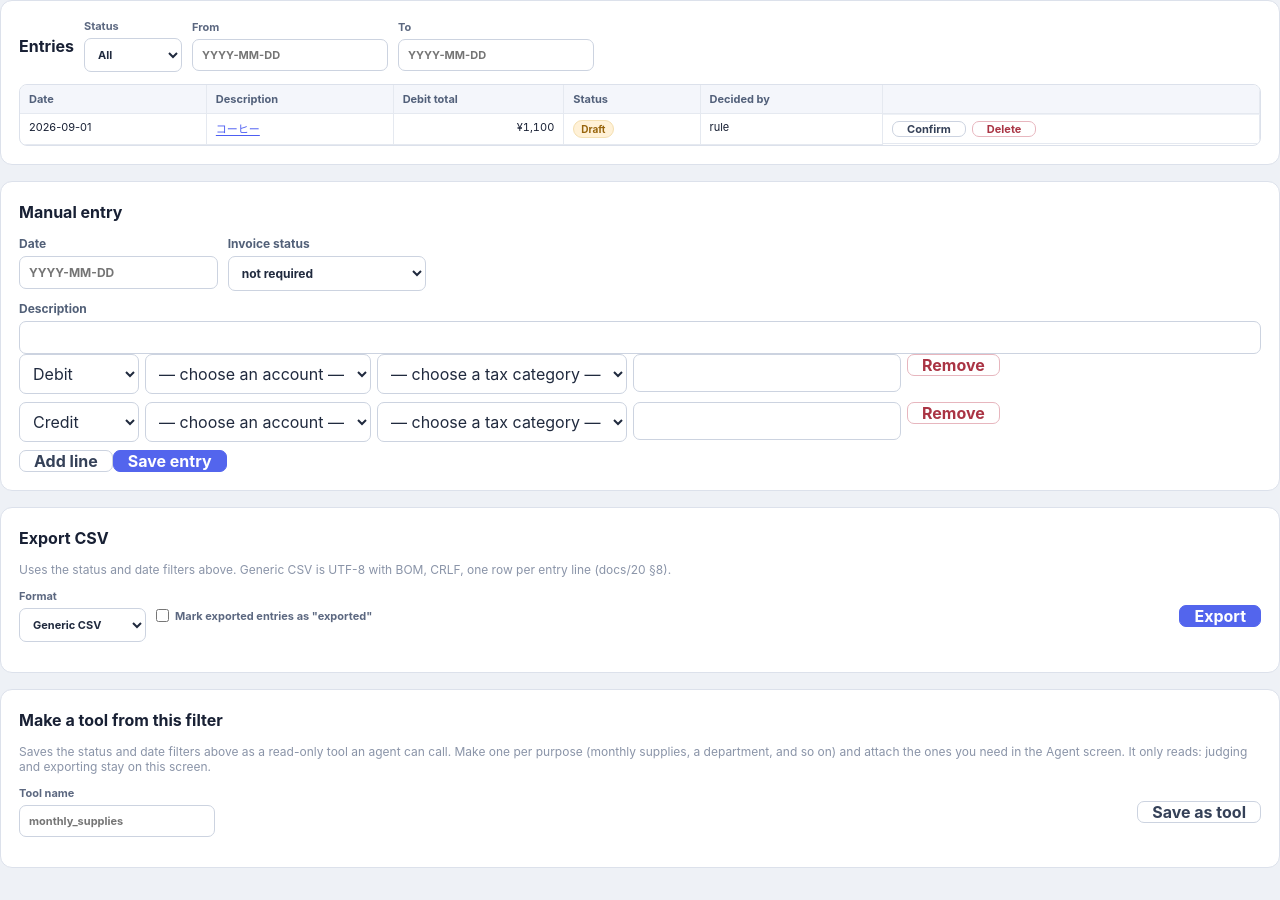
Scenario: ExportTab: この条件をツールにする › 異常: 期間の形式が誤っていれば保存を投げない
This screenshot has width=1280, height=900.
In the field named "From date": (290, 55) [192, 39, 388, 71], type "2026/09/01"
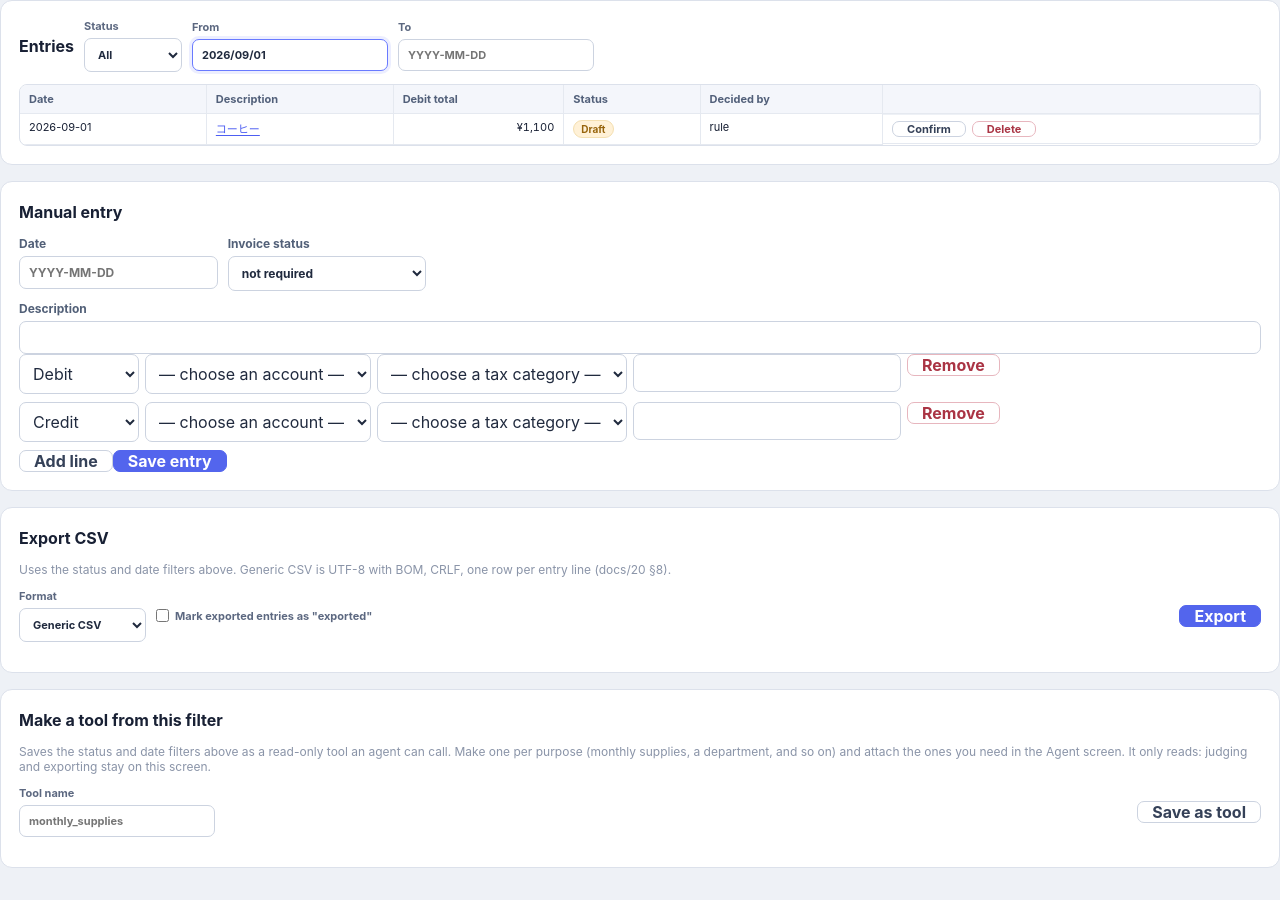
In the field labelled "Tool name": (117, 821) [19, 805, 215, 837], type "bad_range"
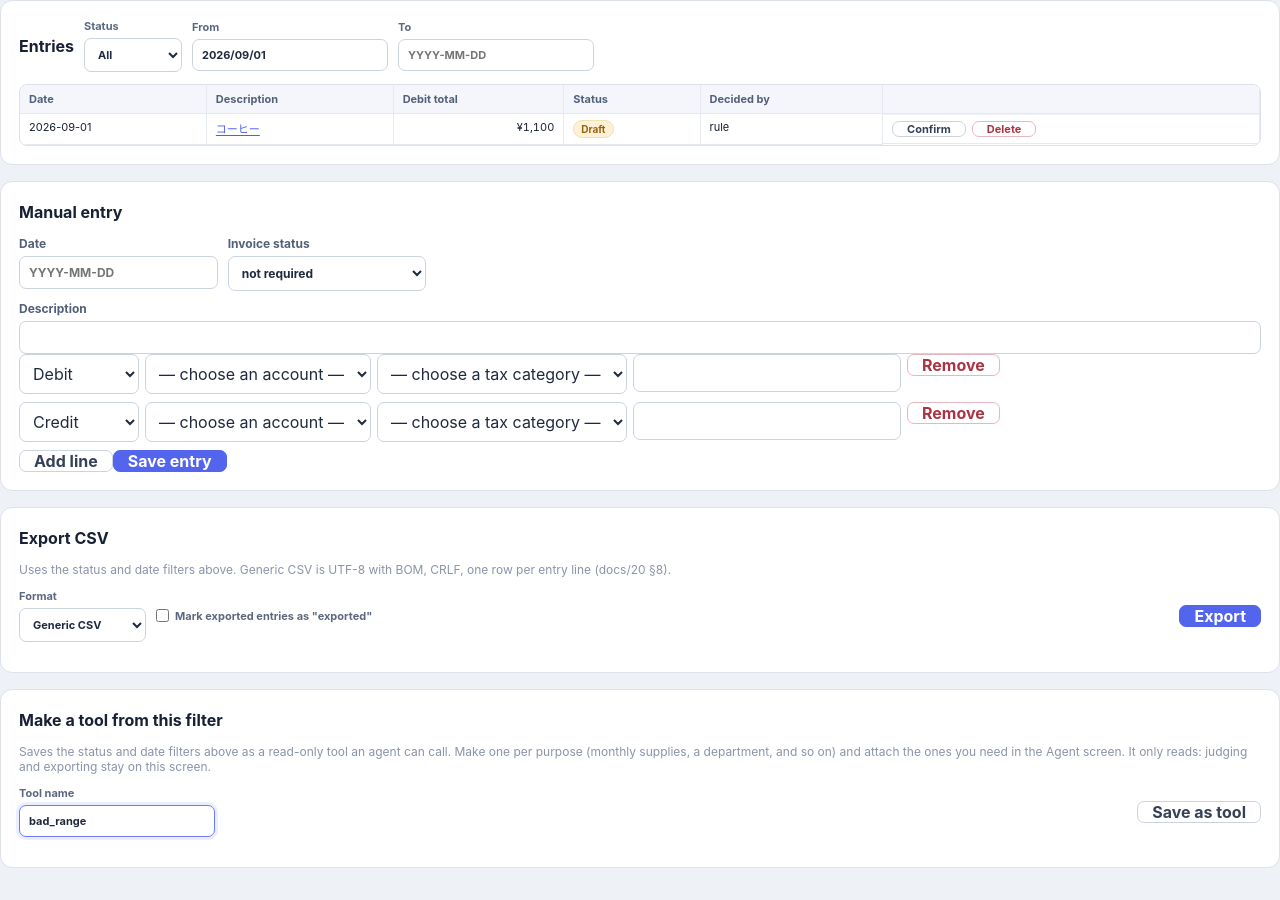
Click the button "Save as tool": (1199, 812) [1137, 800, 1261, 822]
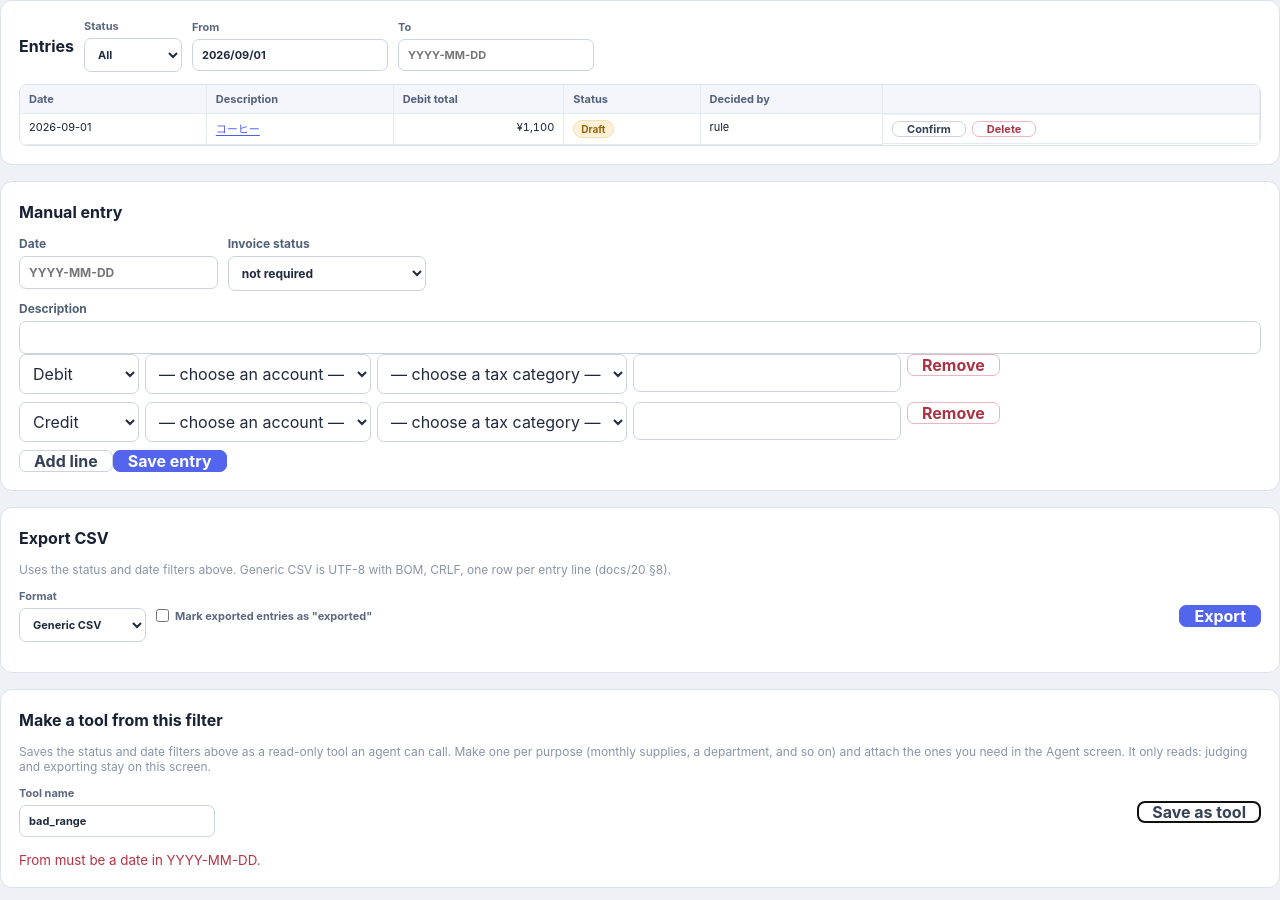
Expected: the text "From must be a date in YYYY-MM-DD." is shown, [19, 852, 260, 868]
